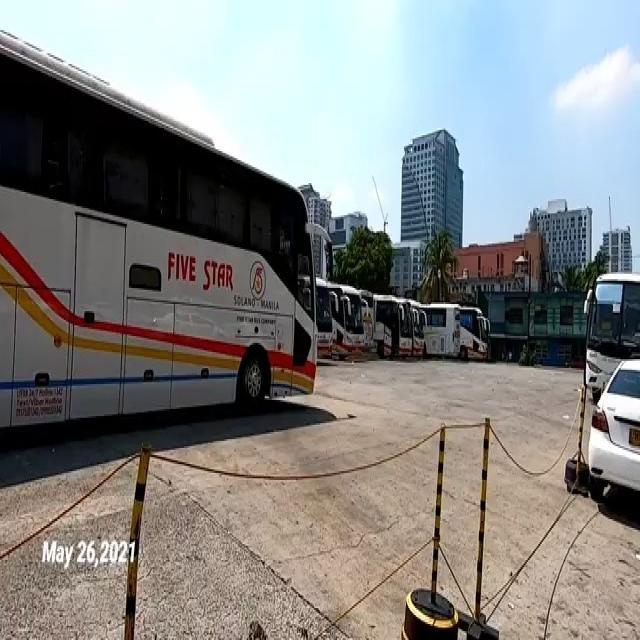bus: (0, 24, 335, 433), (584, 270, 640, 406), (298, 273, 336, 361), (330, 278, 366, 359), (376, 291, 413, 363), (426, 304, 462, 359), (461, 304, 488, 359), (357, 286, 374, 353), (410, 302, 425, 358)
car: (587, 357, 640, 503)
